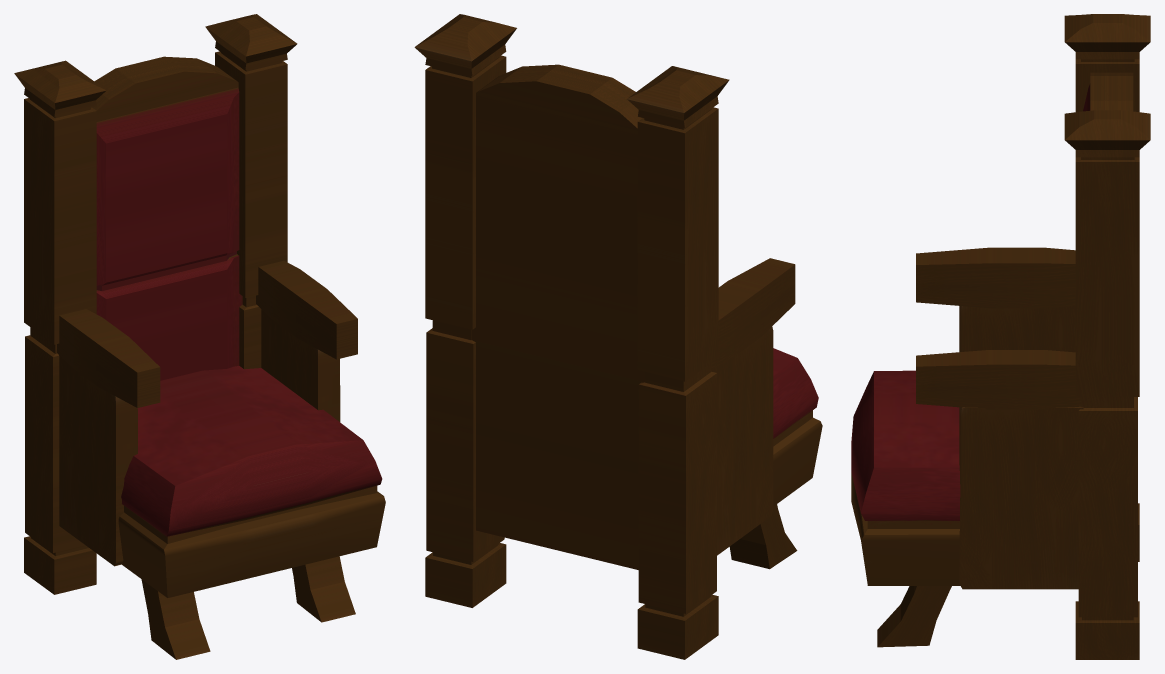
File: 3DModel_KingsThrone_V1_BS.fbx
3 views of the same model, side by side, from view 1: azimuth 30°, elevation 25°; view 2: azimuth 150°, elevation 25°; view 3: azimuth 270°, elevation 25° (orthographic). The views are drawn at different scales.
Parts seen in each view (by area): view 1: Dmodel_KingsThrone_V1_Bs; view 2: Dmodel_KingsThrone_V1_Bs; view 3: Dmodel_KingsThrone_V1_Bs.
Part boxes in pixels (bbox=[...]): Dmodel_KingsThrone_V1_Bs: bbox=[14, 14, 385, 659]; Dmodel_KingsThrone_V1_Bs: bbox=[414, 14, 822, 659]; Dmodel_KingsThrone_V1_Bs: bbox=[851, 14, 1150, 659].
Size of the model in its own units: 2.1 by 4.21 by 2.14.
2 materials, 1 textured.
